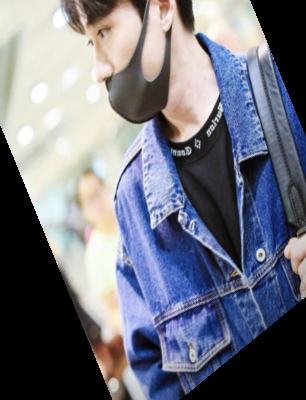mask_weared_incorrect: (53, 1, 201, 130)
